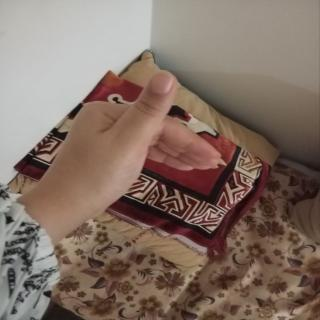KHAA: (39, 59, 228, 231)
